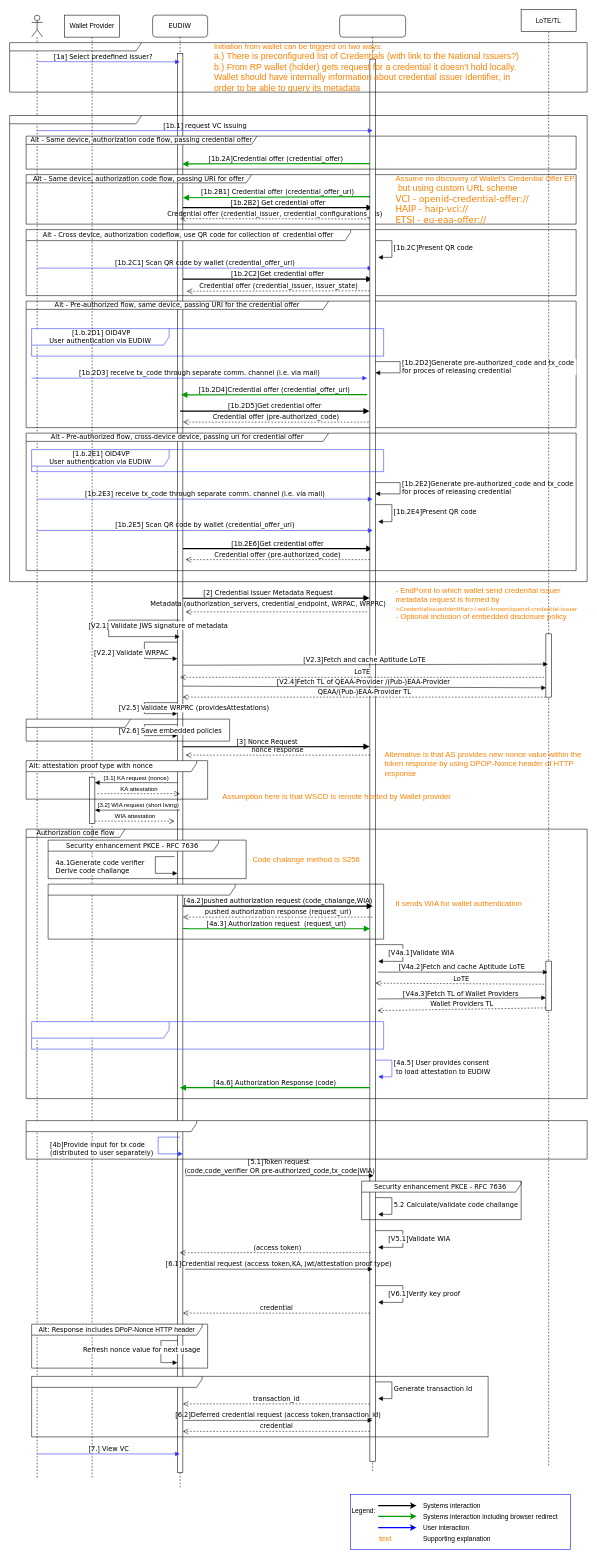
Some shapes in this 597 by 1559 pixel diagram are drawn without their labels. The shapes that lost their labels are listed below. From the top down, each one's box as (x1, y1, x2, y2) in pixels, then its label:
(9, 42, 587, 92): 1a Initiating process from wallet
(9, 115, 587, 582): 1b Initiating process from Issuer
(26, 719, 230, 741): Alt: embedded policies provided
(339, 15, 406, 1473): (Q)EAA Provider (Issuer)
(48, 884, 384, 939): Security enhancement PAR - RFC 9126
(31, 1021, 384, 1049): [4a.4] OID4VP User authentication via EUDIW
(26, 1120, 587, 1159): Alt - Pre authorized flow
(31, 1376, 488, 1437): Alt - Deferred credential issuance
